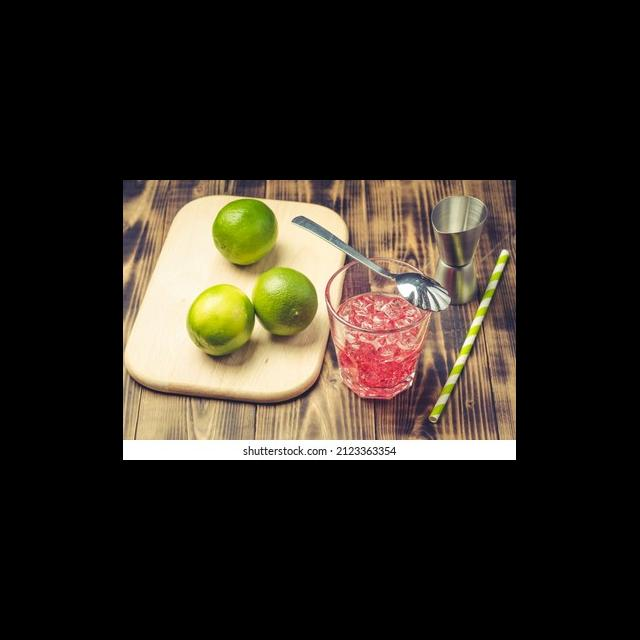lime: (183, 280, 258, 362), (250, 265, 320, 342), (209, 196, 282, 268)
